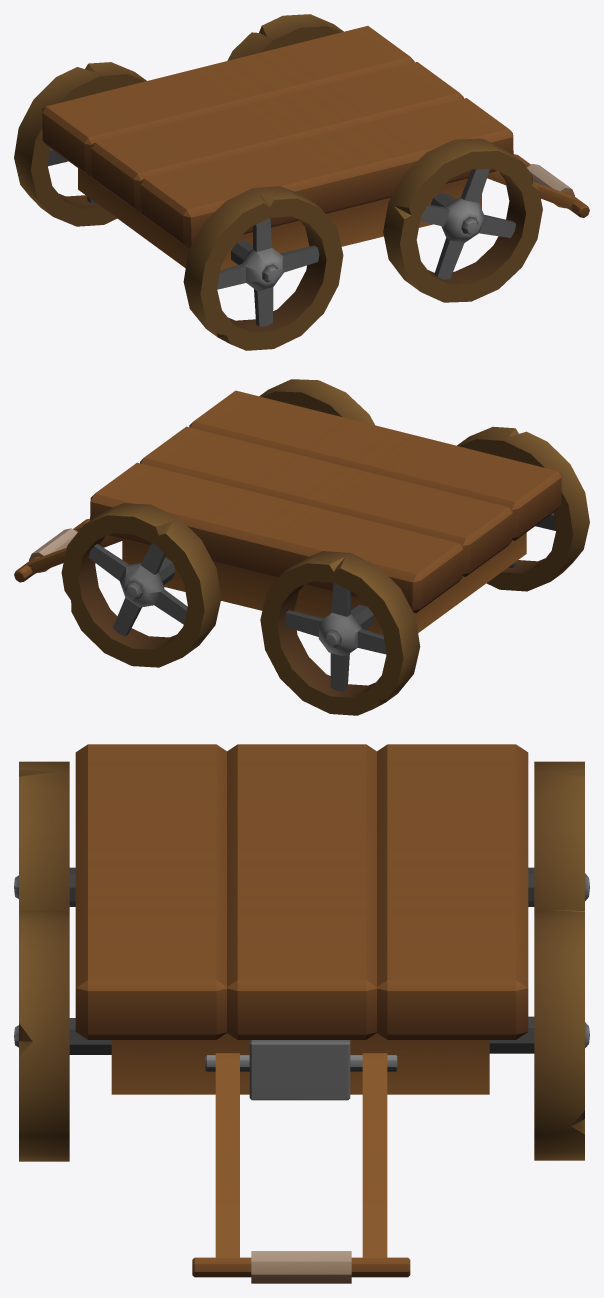
File: obj_SimpleCart.fbx
3 views of the same model, one above another, from view 1: azimuth 30°, elevation 25°; view 2: azimuth 150°, elevation 25°; view 3: azimuth 270°, elevation 25° (orthographic). The views are drawn at different scales.
Visible parts, largest first — view 1: obj_SimpleCart; view 2: obj_SimpleCart; view 3: obj_SimpleCart.
Boxes of the visible parts, <box> form: obj_SimpleCart: <box>14,14,589,350</box>; obj_SimpleCart: <box>14,379,589,715</box>; obj_SimpleCart: <box>14,744,589,1283</box>.
Bounding box in the file's own units: 124 × 40.76 × 90.45.
